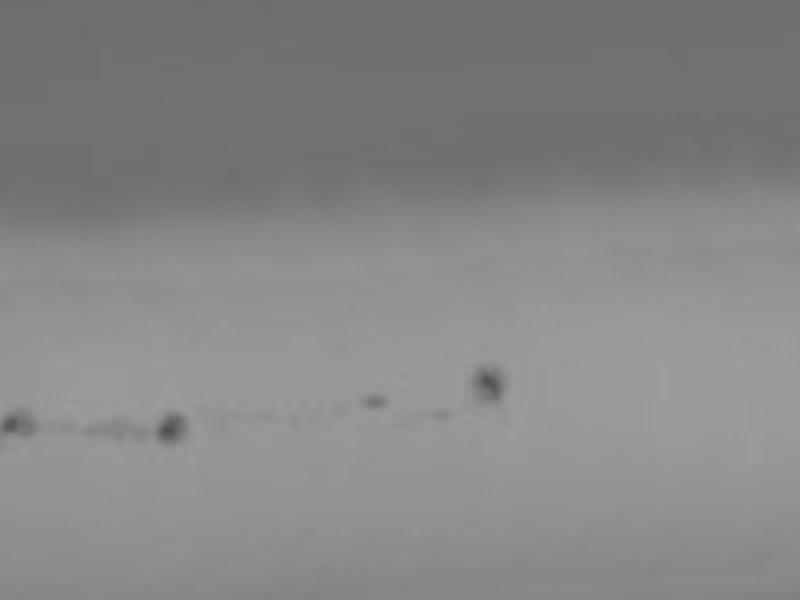defect: (87, 416, 148, 444), (467, 363, 506, 406), (198, 397, 229, 438), (156, 410, 187, 442), (2, 407, 37, 434), (420, 404, 450, 426), (361, 393, 392, 409)
